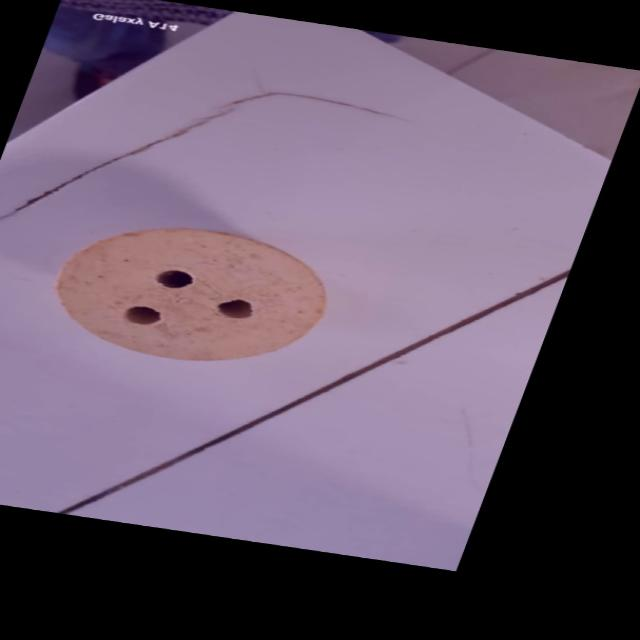Stopper: (28, 207, 345, 383)
